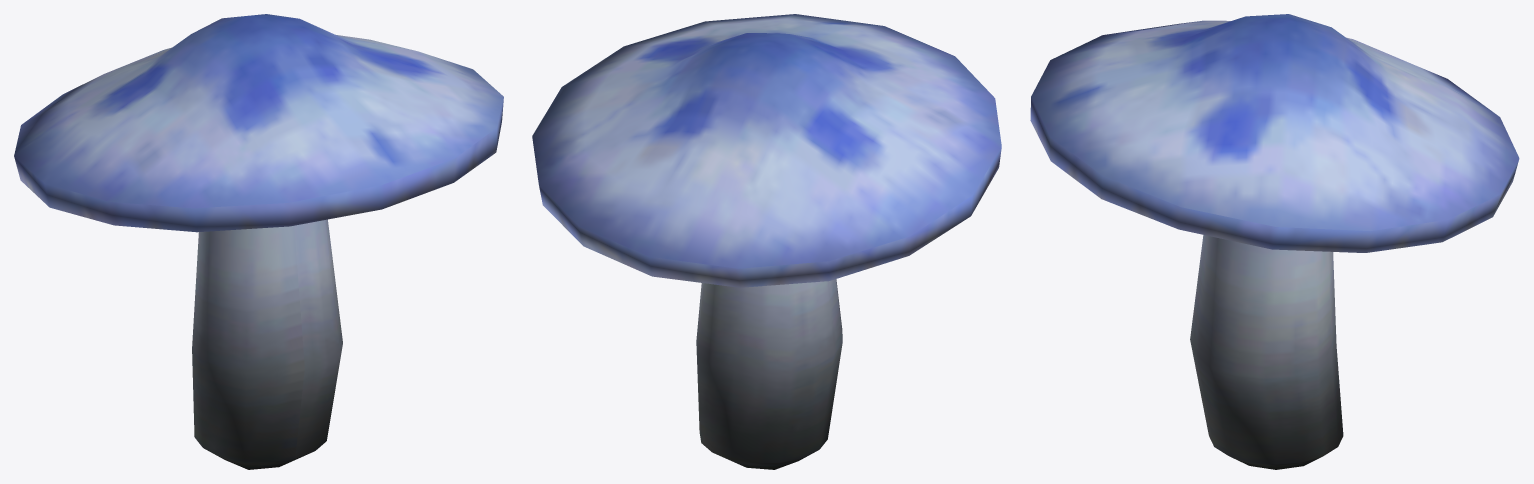
The model's file is INST_TROLLHOLE_SHROOMA2.fbx.
3 views of the same model, side by side, from view 1: azimuth 30°, elevation 25°; view 2: azimuth 150°, elevation 25°; view 3: azimuth 270°, elevation 25° (orthographic). The views are drawn at different scales.
Visible parts, largest first — view 1: INST_TROLLHOLE_SHROOMA2; view 2: INST_TROLLHOLE_SHROOMA2; view 3: INST_TROLLHOLE_SHROOMA2.
Boxes of the visible parts, bbox=[...] form: INST_TROLLHOLE_SHROOMA2: bbox=[14, 14, 503, 469]; INST_TROLLHOLE_SHROOMA2: bbox=[532, 14, 1001, 469]; INST_TROLLHOLE_SHROOMA2: bbox=[1030, 14, 1519, 469].
Size of the model in its own units: 7963 by 7786 by 7900.
Materials: 1 (1 with a texture image).
